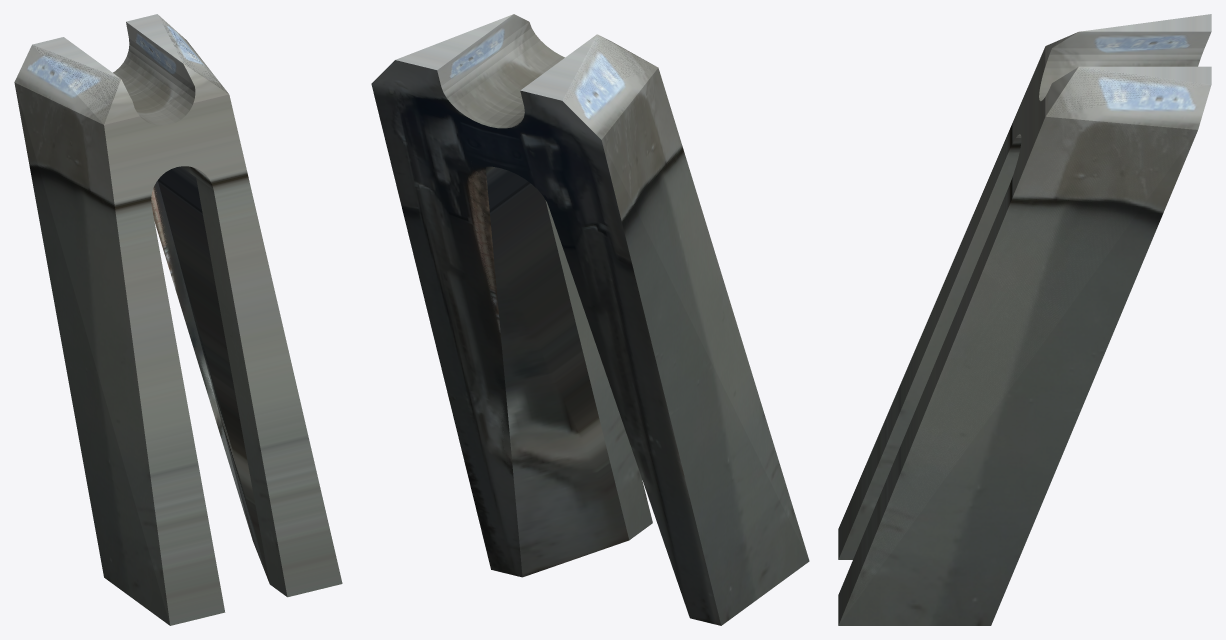
File: BurneVelib.fbx
3 renders of one model, left to right at view 1: azimuth 30°, elevation 25°; view 2: azimuth 150°, elevation 25°; view 3: azimuth 270°, elevation 25°, orthographic. The views are drawn at different scales.
Parts seen in each view (by area): view 1: Cube; view 2: Cube; view 3: Cube.
Part boxes in pixels (x1,y1,x2,y2): Cube: (14, 14, 342, 625); Cube: (371, 14, 809, 625); Cube: (838, 14, 1211, 625).
Bounding box in the file's own units: 0.2369 × 0.3847 × 0.6007.
Materials: 1 (1 with a texture image).
